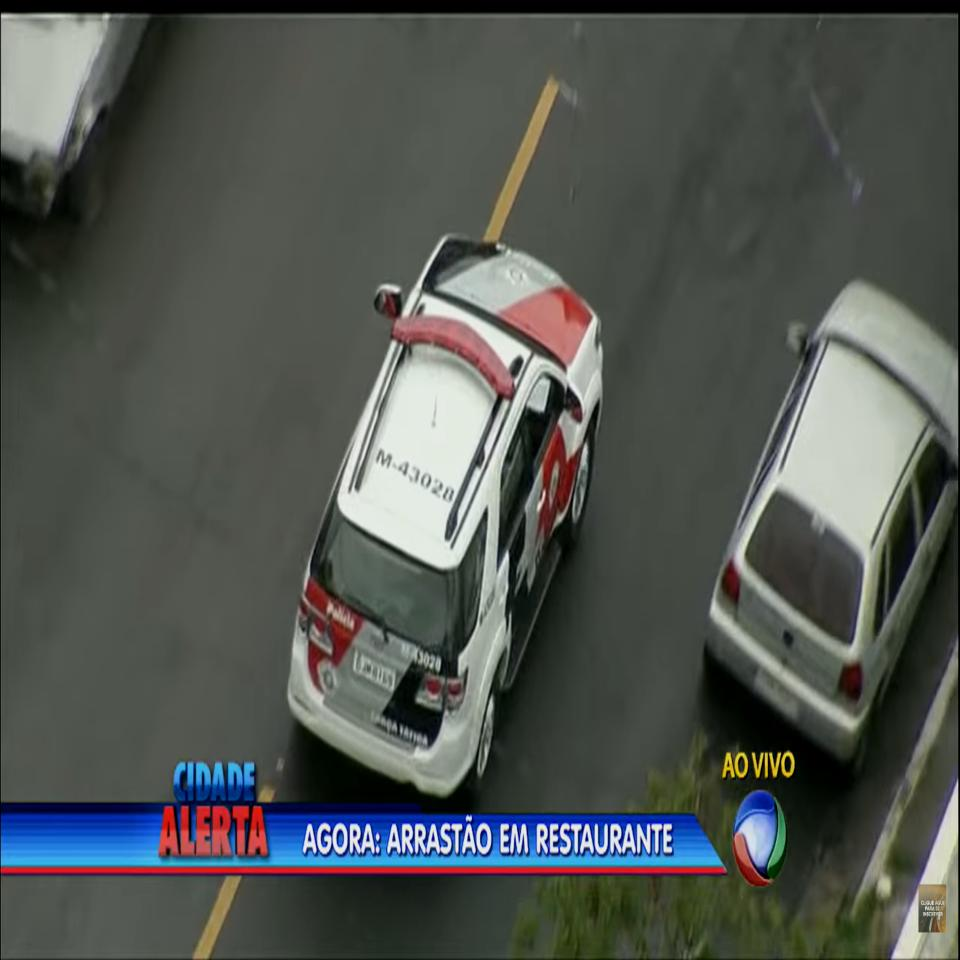viatura: (282, 215, 618, 775)
